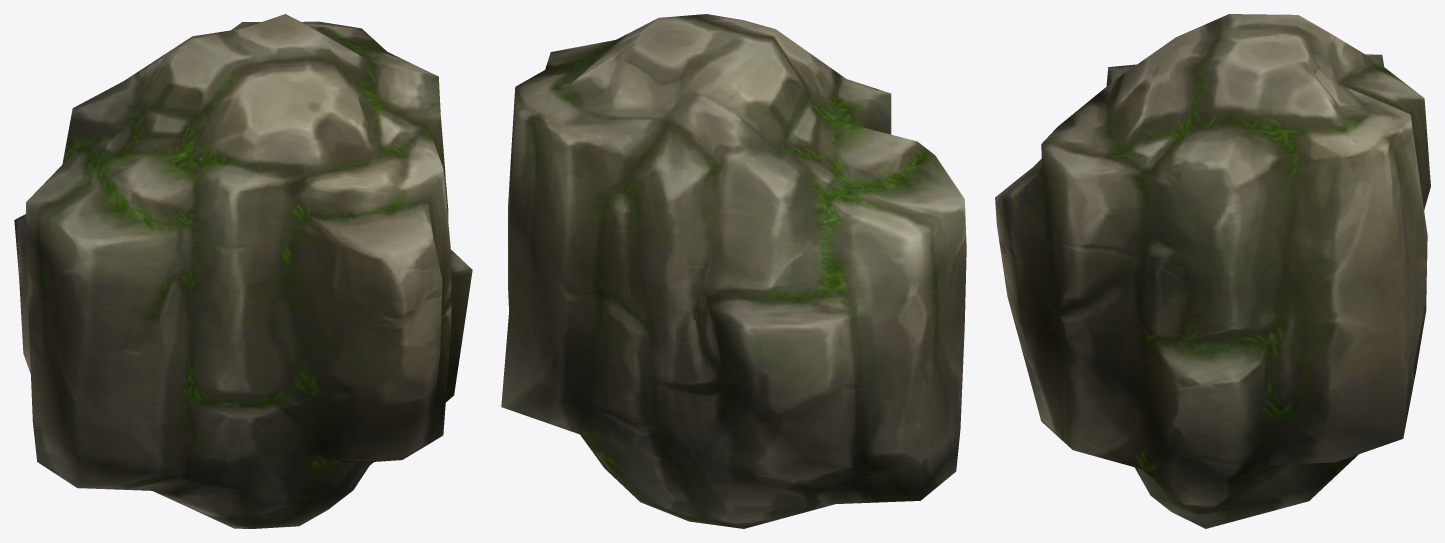
File: RockFormation_4_2 (3).fbx
3 renders of one model, left to right at view 1: azimuth 30°, elevation 25°; view 2: azimuth 150°, elevation 25°; view 3: azimuth 270°, elevation 25°, orthographic. The views are drawn at different scales.
Parts seen in each view (by area): view 1: RockFormation_4_2 (3); view 2: RockFormation_4_2 (3); view 3: RockFormation_4_2 (3).
Boxes of the visible parts, bbox=[...] form: RockFormation_4_2 (3): bbox=[14, 14, 472, 528]; RockFormation_4_2 (3): bbox=[501, 14, 966, 528]; RockFormation_4_2 (3): bbox=[995, 14, 1430, 528].
Size of the model in its own units: 308 by 341 by 281.
